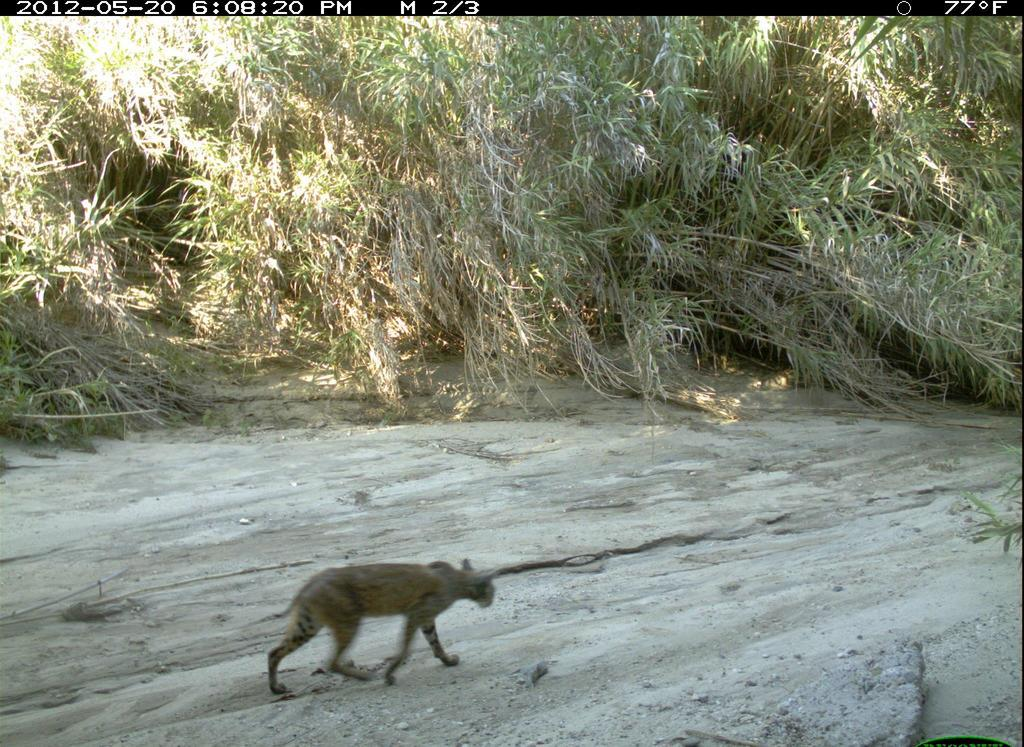bobcat: (242, 547, 505, 697)
